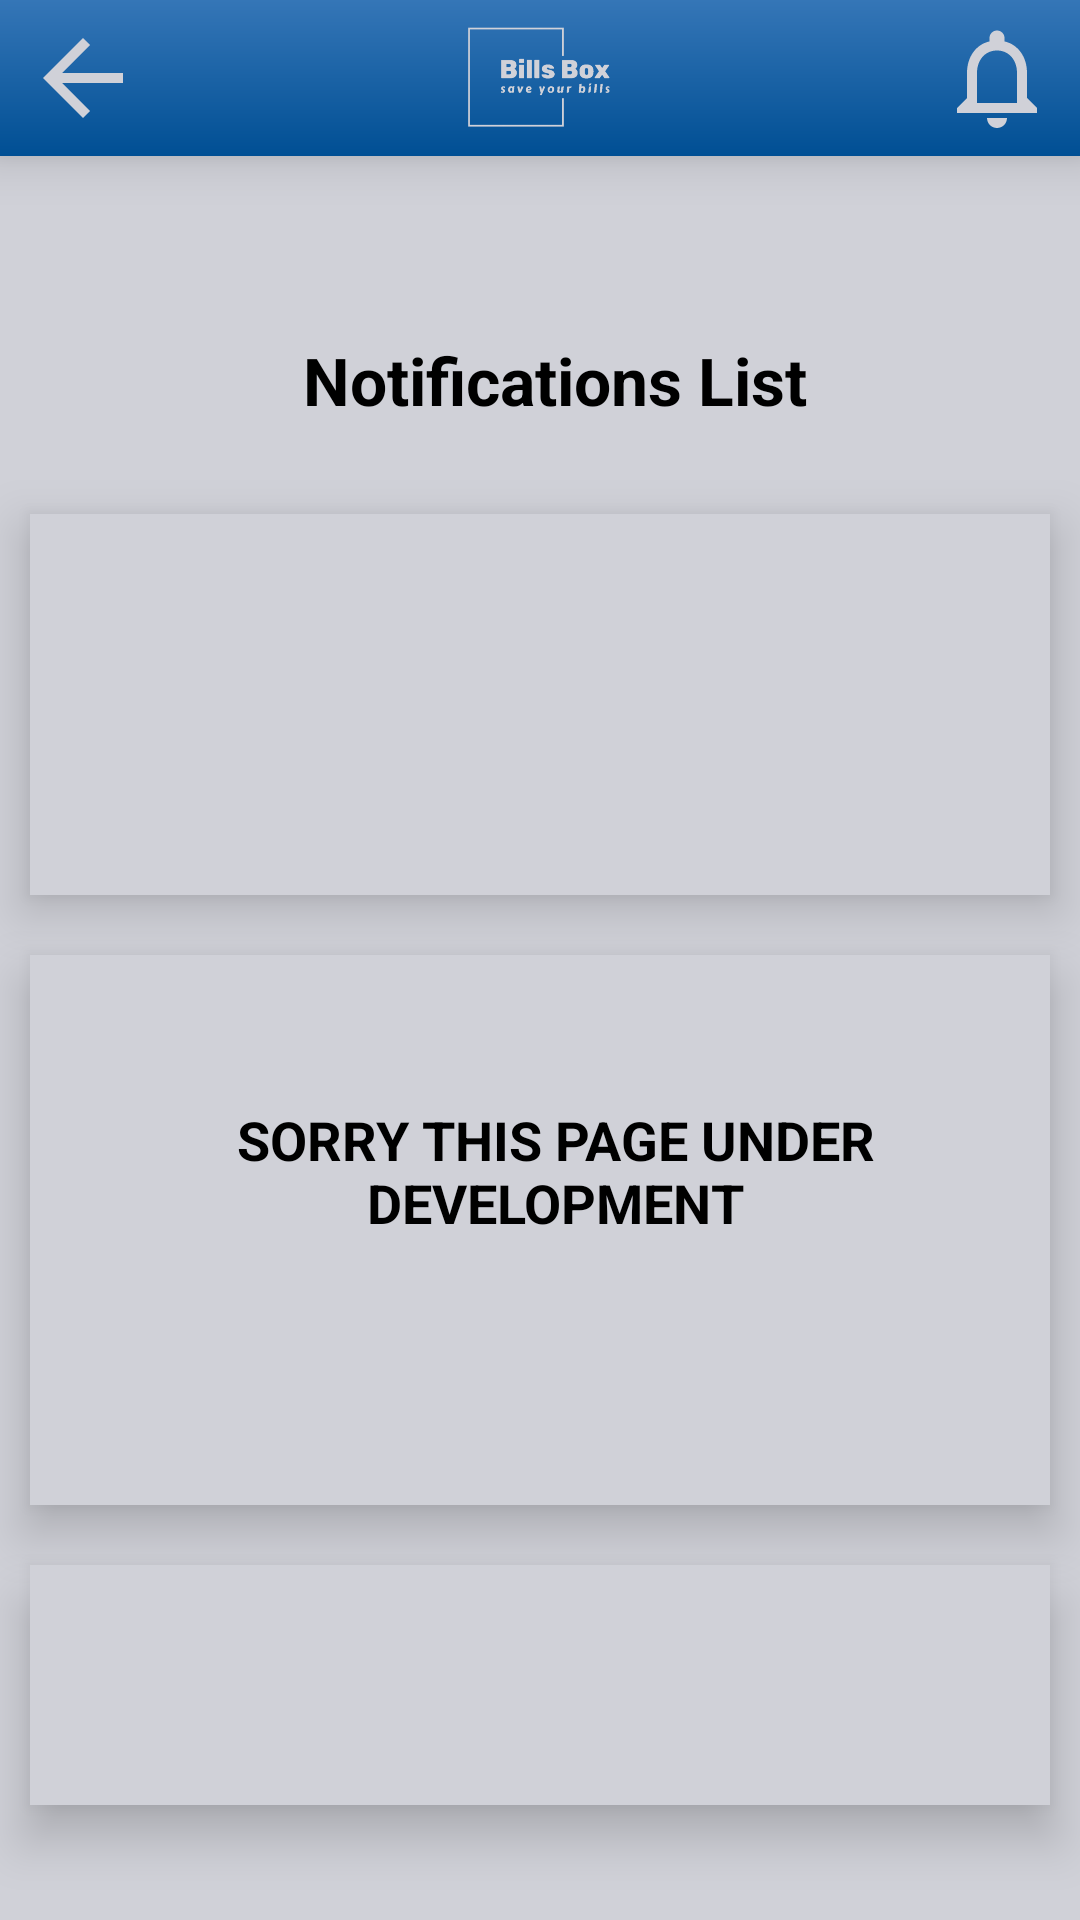

Icon click points for this 1080*1920 phone screenshot, format (x=x, y=y):
arrow back: (x=83, y=78)
notifications: (x=996, y=78)
